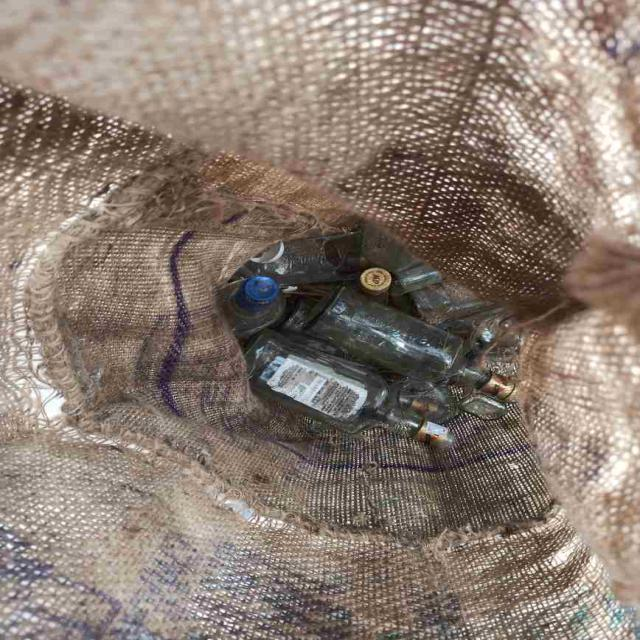chai_thuy_tinh: (245, 331, 455, 448), (306, 286, 518, 401)
